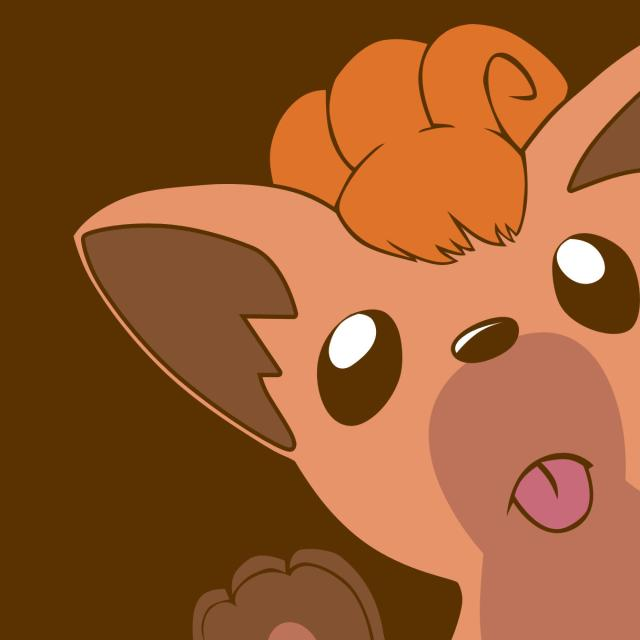Vulpix: (230, 27, 640, 640)
